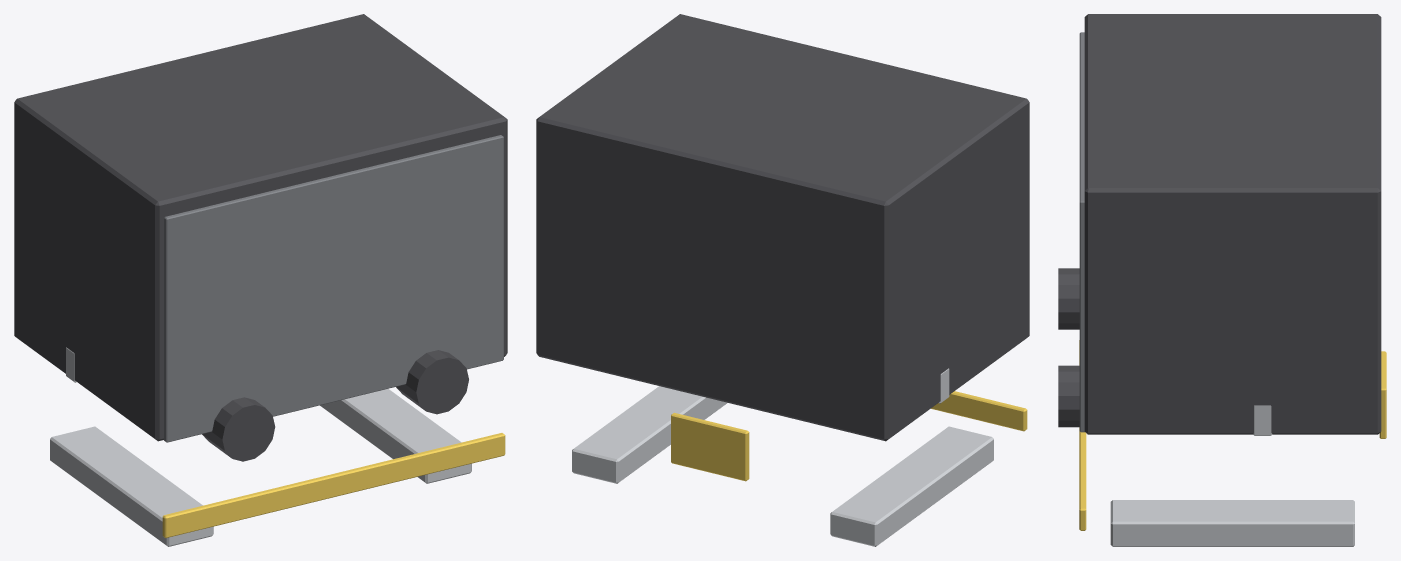
The model's file is live-music-venue-and-festival-stage-subwoofer-cabinet-76be2833.glb.
3 renders of one model, left to right at view 1: azimuth 30°, elevation 25°; view 2: azimuth 150°, elevation 25°; view 3: azimuth 270°, elevation 25°, orthographic. The views are drawn at different scales.
Parts seen in each view (by area): view 1: subwoofer-cabinet; view 2: subwoofer-cabinet; view 3: subwoofer-cabinet.
Part boxes in pixels (<box>): subwoofer-cabinet: <box>14,14,507,546</box>; subwoofer-cabinet: <box>536,14,1029,546</box>; subwoofer-cabinet: <box>1058,14,1386,546</box>.
Bounding box in the file's own units: 1.2 × 1.17 × 0.94.
